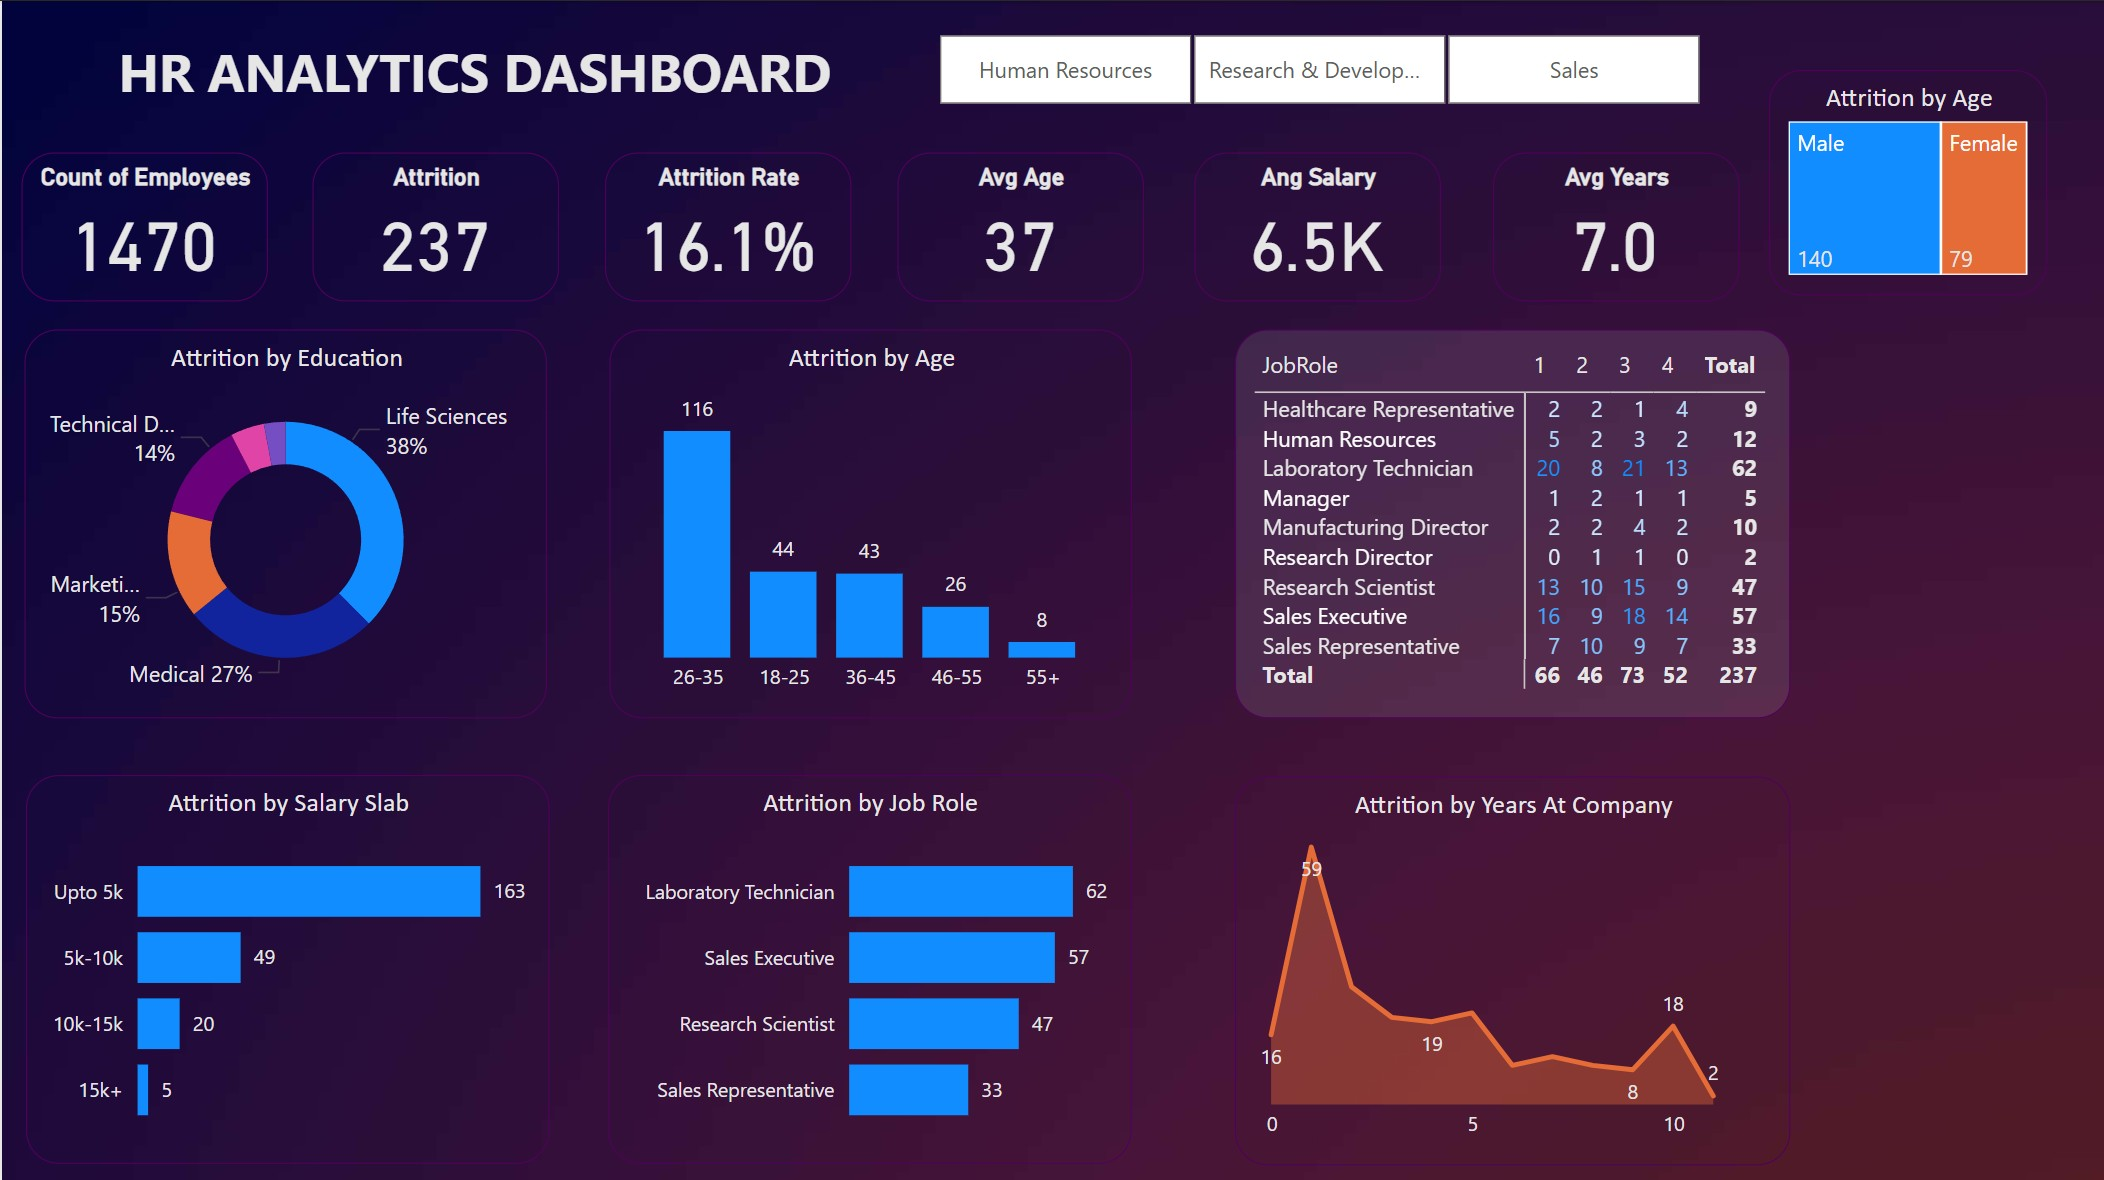

What the dashboard file says about the page in this screenshot:
{"tool":"powerbi","page":{"name":"Page 1","canvas":[1280,720],"ordinal":0},"visuals":[{"type":"card","title":"Count of Employees","fields":{"Values":["CountNonNull(HR_Analytics.EmpID)"]},"box":[11.6,91.8,149.8,90.6],"z":0},{"type":"card","title":"Attrition","fields":{"Values":["Sum(HR_Analytics.AttritionCount)"]},"box":[189.3,91.8,149.8,90.6],"z":1000},{"type":"card","title":"Attrition Rate","fields":{"Values":["HR_Analytics.AttritionRate"]},"box":[367,91.8,149.8,90.6],"z":2000},{"type":"card","title":"Avg Age","fields":{"Values":["Avg(HR_Analytics.Age)"]},"box":[544.8,91.8,149.8,90.6],"z":3000},{"type":"card","title":"Ang Salary","fields":{"Values":["Avg(HR_Analytics.MonthlyIncome)"]},"box":[726,91.8,149.8,90.6],"z":4000},{"type":"card","title":"Avg Years","fields":{"Values":["Avg(HR_Analytics.YearsAtCompany)"]},"box":[907.2,91.8,149.8,90.6],"z":5000},{"type":"donutChart","title":"Attrition by Education","fields":{"Category":["HR_Analytics.EducationField"],"Y":["Sum(HR_Analytics.AttritionCount)"]},"box":[13.9,199.8,318.3,237],"z":6000},{"type":"columnChart","title":"Attrition by Age","fields":{"Category":["HR_Analytics.AgeGroup"],"Y":["Sum(HR_Analytics.AttritionCount)"]},"box":[369.4,199.8,318.3,237],"z":6001},{"type":"pivotTable","fields":{"Rows":["HR_Analytics.JobRole"],"Columns":["HR_Analytics.JobSatisfaction"],"Values":["Sum(HR_Analytics.AttritionCount)"]},"box":[750.3,199.8,338,237],"z":6002},{"type":"barChart","title":"Attrition by Salary Slab","fields":{"Category":["HR_Analytics.SalarySlab"],"Y":["Sum(HR_Analytics.AttritionCount)"]},"box":[14.4,471.5,318.5,236.9],"z":6003},{"type":"barChart","title":"Attrition by Job Role","fields":{"Category":["HR_Analytics.JobRole"],"Y":["Sum(HR_Analytics.AttritionCount)"]},"box":[369.2,471.5,318.5,236.9],"z":6004},{"type":"areaChart","title":"Attrition by Years At Company","fields":{"Category":["HR_Analytics.YearsAtCompany"],"Y":["Sum(HR_Analytics.AttritionCount)"]},"box":[750.3,471.6,338,237],"z":6005},{"type":"treemap","title":"Attrition by Age","fields":{"Group":["HR_Analytics.Gender"],"Values":["Sum(HR_Analytics.AttritionCount)"]},"box":[1075.6,41.8,169.6,137.1],"z":6006},{"type":"slicer","fields":{"Values":["HR_Analytics.Department"]},"box":[544.8,13.9,512.2,55.8],"z":6007},{"type":"textbox","box":[11.6,15.1,551.7,54.6],"z":6008}]}

Visuals, with their boxes in screenshot pixels (x1, y1, x2, y2), scaled from the page's 1280x720 canvas onto the 2104x1180 screenshot:
"Count of Employees" card: bbox(19, 150, 265, 299)
"Attrition" card: bbox(311, 150, 557, 299)
"Attrition Rate" card: bbox(603, 150, 849, 299)
"Avg Age" card: bbox(896, 150, 1142, 299)
"Ang Salary" card: bbox(1193, 150, 1440, 299)
"Avg Years" card: bbox(1491, 150, 1737, 299)
"Attrition by Education" donutChart: bbox(23, 327, 546, 716)
"Attrition by Age" columnChart: bbox(607, 327, 1130, 716)
pivotTable - HR_Analytics.JobRole x HR_Analytics.JobSatisfaction: bbox(1233, 327, 1789, 716)
"Attrition by Salary Slab" barChart: bbox(24, 773, 547, 1161)
"Attrition by Job Role" barChart: bbox(607, 773, 1130, 1161)
"Attrition by Years At Company" areaChart: bbox(1233, 773, 1789, 1161)
"Attrition by Age" treemap: bbox(1768, 69, 2047, 293)
slicer - HR_Analytics.Department: bbox(896, 23, 1737, 114)
textbox: bbox(19, 25, 926, 114)
